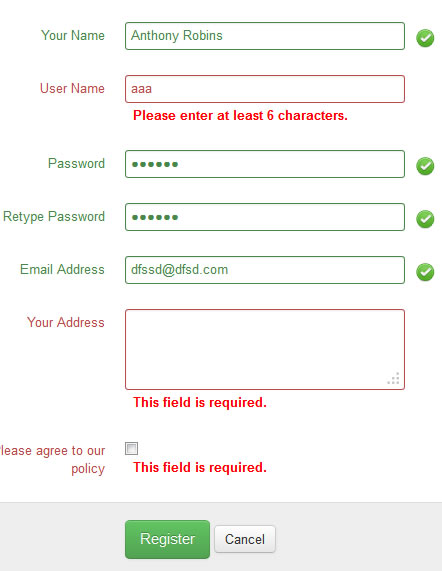error_field: (124, 307, 406, 391), (124, 73, 407, 104)
error_message: (1, 440, 106, 477), (132, 107, 347, 124), (133, 459, 270, 474), (133, 394, 268, 409), (28, 314, 108, 328), (39, 80, 106, 96)
